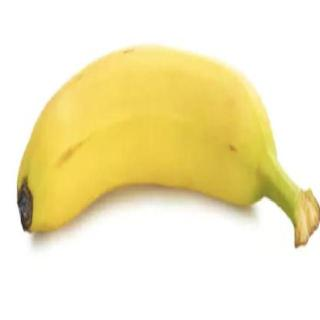banana: (15, 40, 275, 238)
